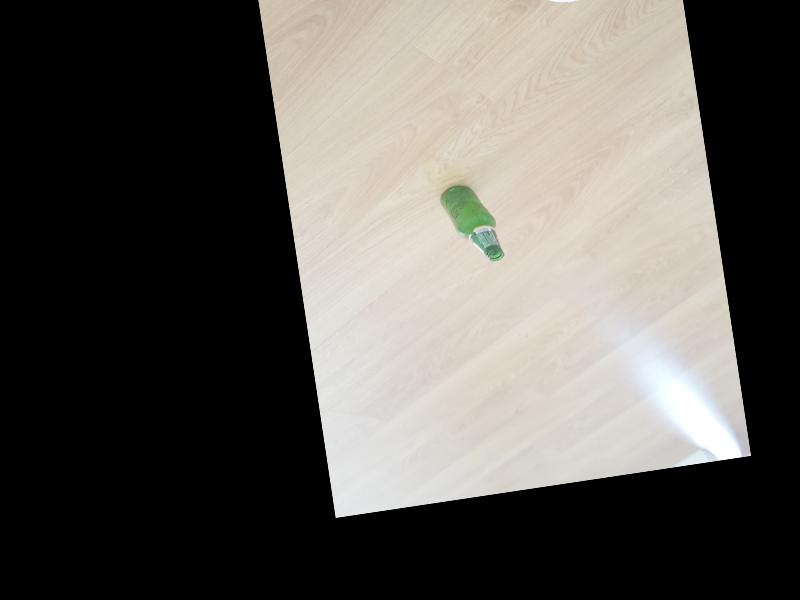Beer: (440, 180, 504, 265)
